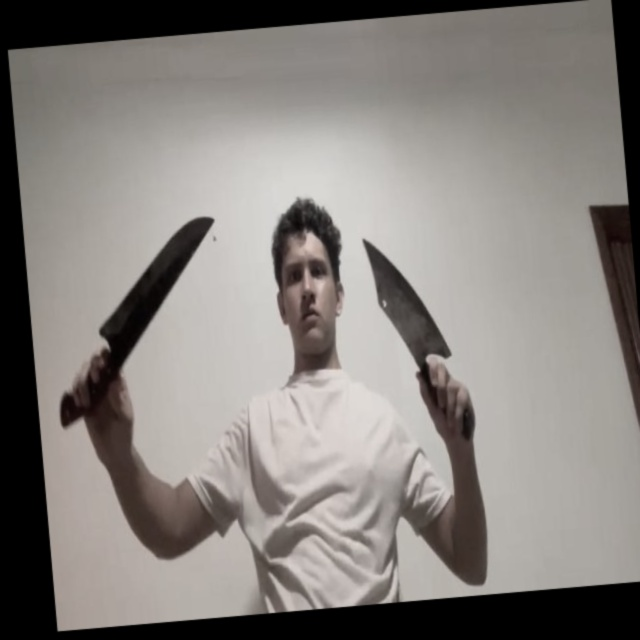Sharp-Object: (89, 214, 224, 344), (361, 231, 451, 365)
